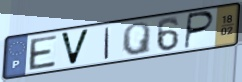6: (156, 15, 181, 53)
E: (28, 34, 59, 72)
I: (103, 26, 112, 60)
P: (182, 10, 216, 51)
Q: (121, 21, 152, 57)
V: (58, 27, 92, 67)
